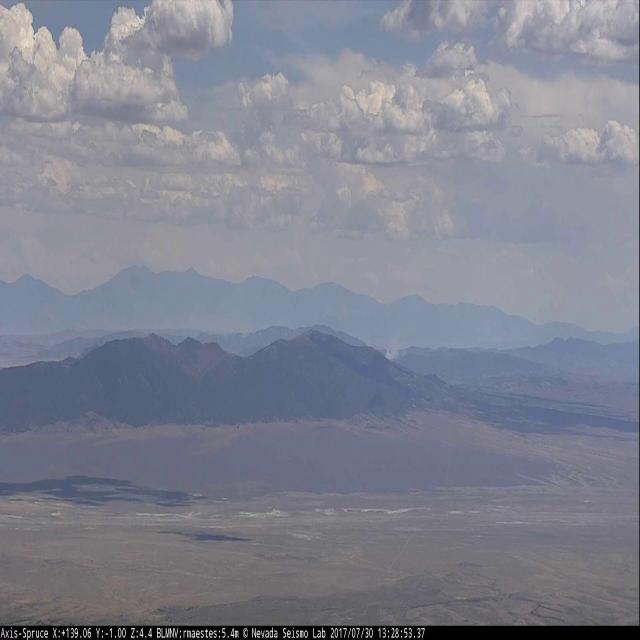smoke: (386, 334, 408, 357)
